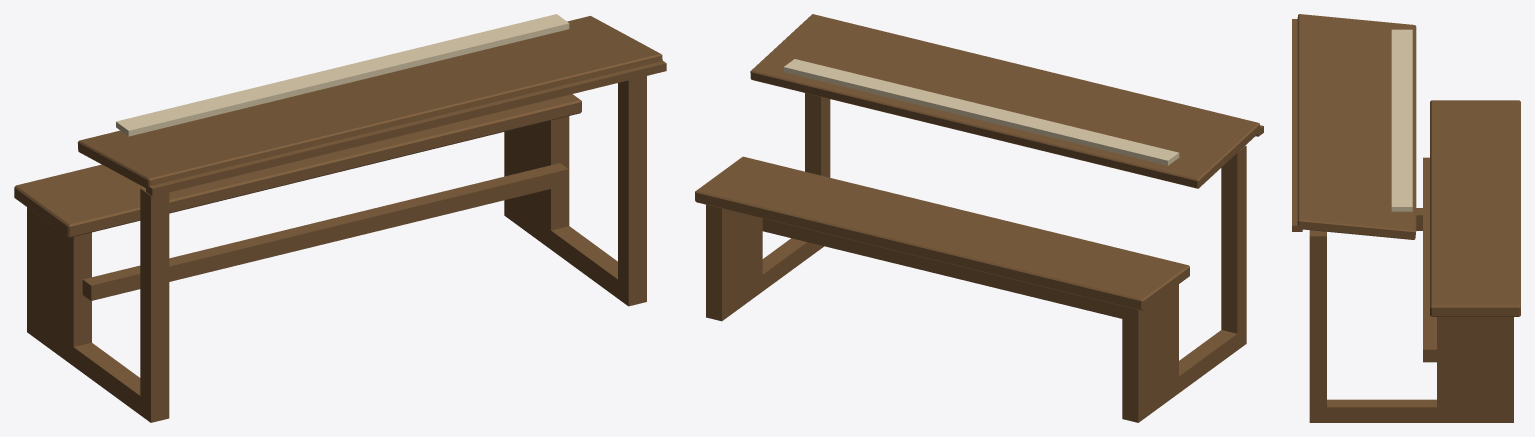
The model's file is Prop_YTM_SchoolBench.glb.
3 renders of one model, left to right at view 1: azimuth 30°, elevation 25°; view 2: azimuth 150°, elevation 25°; view 3: azimuth 270°, elevation 25°, orthographic. The views are drawn at different scales.
Parts seen in each view (by area): view 1: Prop_YTM_SchoolBench; view 2: Prop_YTM_SchoolBench; view 3: Prop_YTM_SchoolBench.
Boxes of the visible parts, box(x1,y1,x2,y2) form: Prop_YTM_SchoolBench: box(14, 14, 666, 422); Prop_YTM_SchoolBench: box(695, 14, 1263, 422); Prop_YTM_SchoolBench: box(1292, 14, 1520, 422).
Size of what is drawn, in the model's own units: 1.4 by 0.6523 by 0.655.
